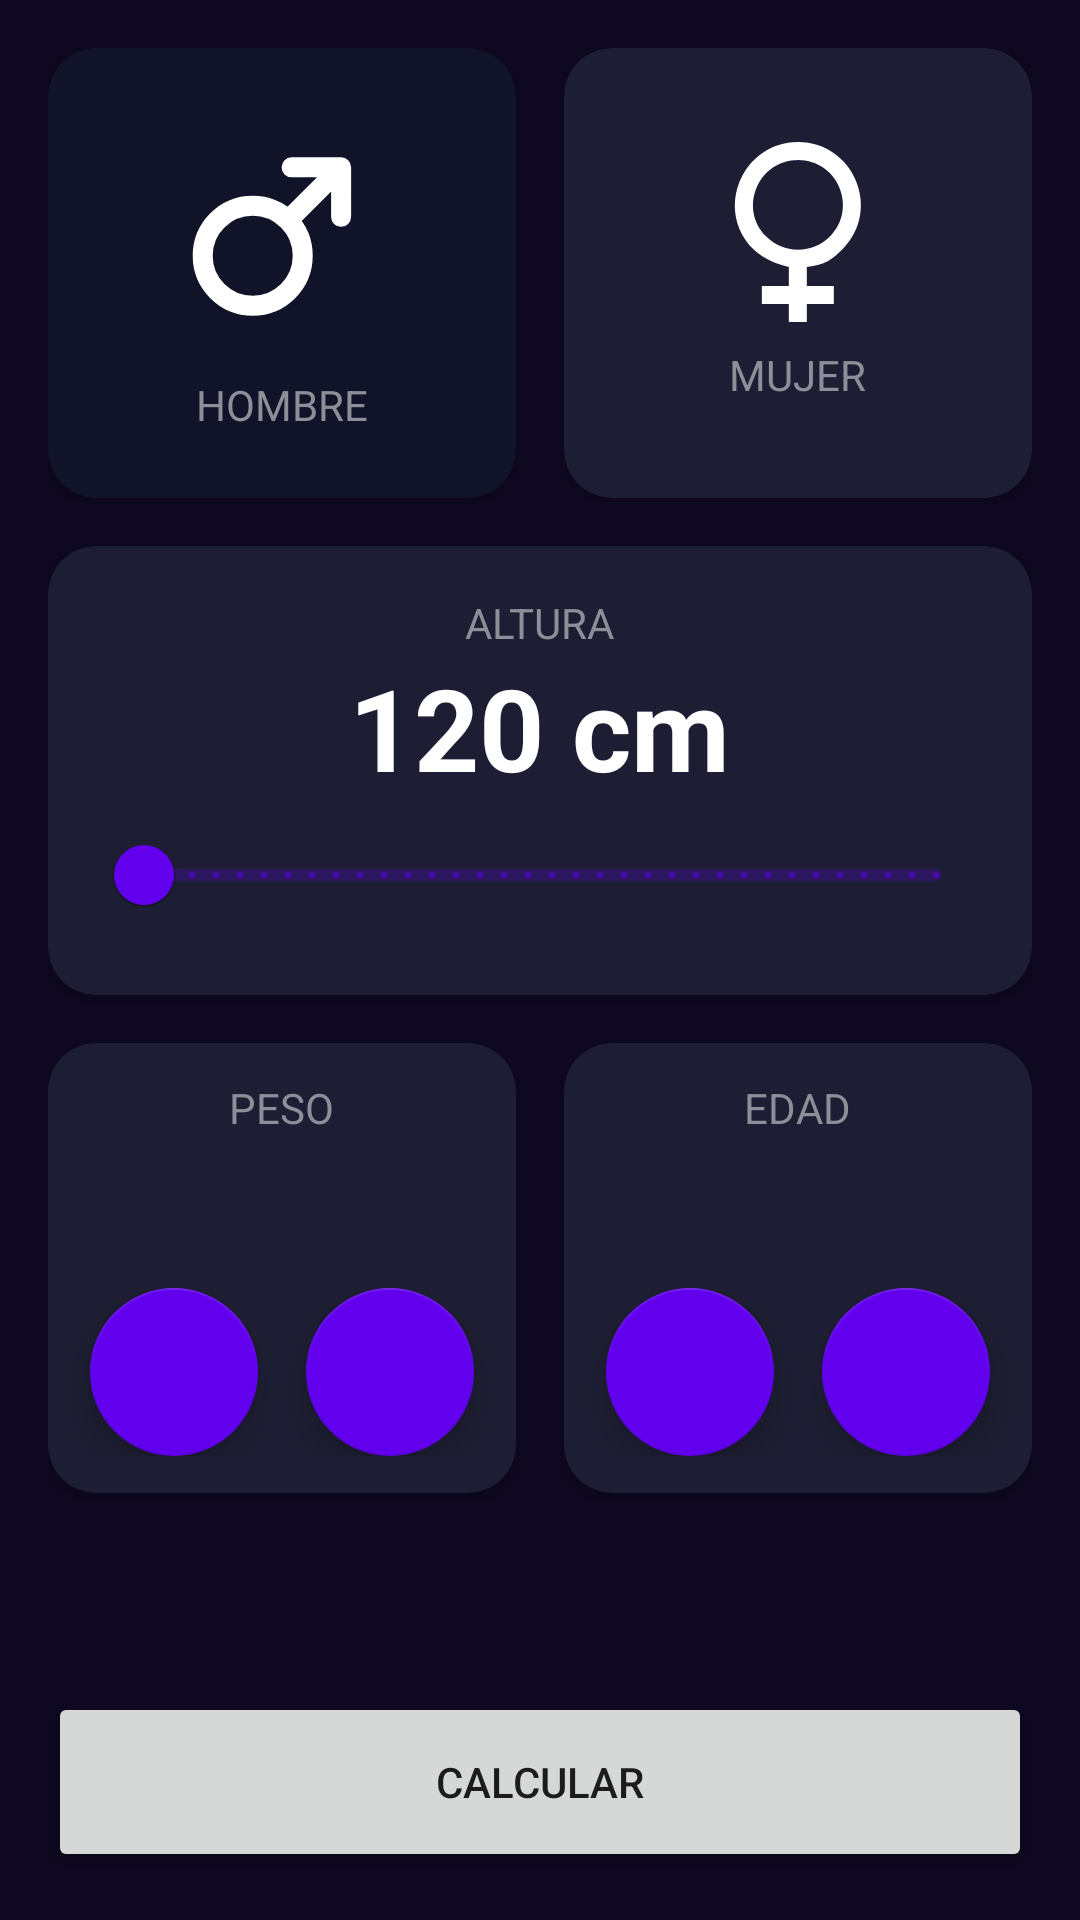

Screen size 1080 × 1920. Icon name, then its box in pixels as bbox=[x1, y1, x2, y2]:
male: bbox=[192, 157, 351, 316]
